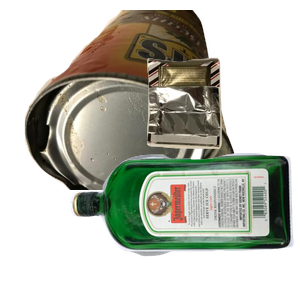glass: (67, 150, 300, 300)
metal: (22, 10, 251, 190)
plastic: (100, 152, 293, 300)
trash: (144, 55, 300, 197)
